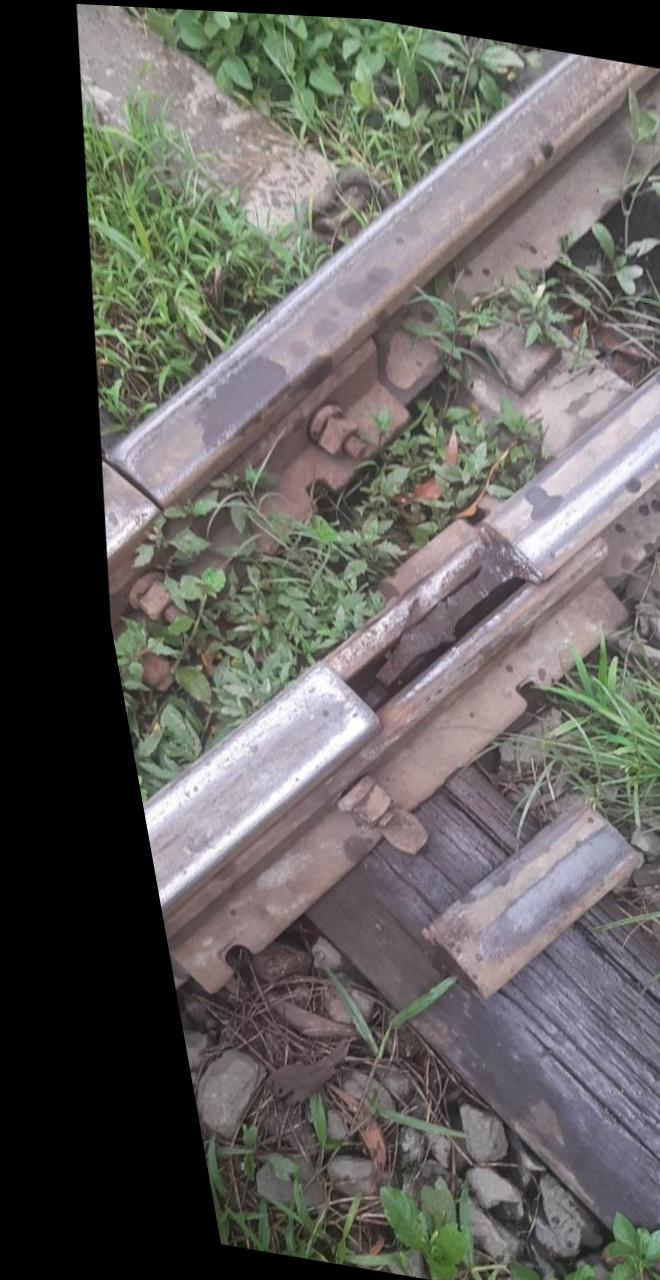person: (238, 479, 566, 751), (58, 380, 178, 590)
